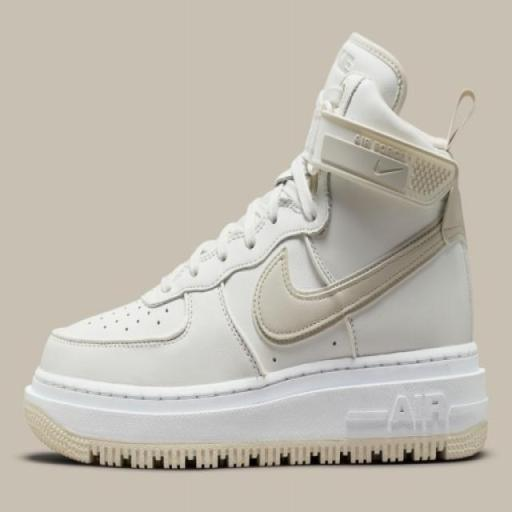Nike: (246, 212, 460, 352)
